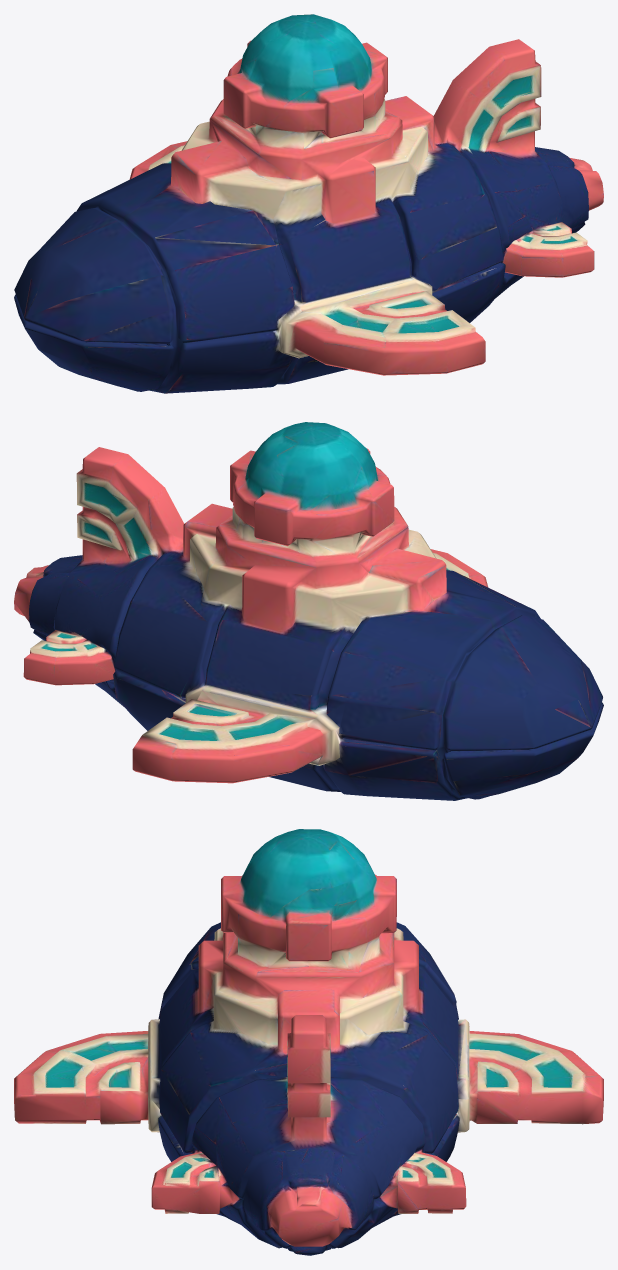
The model's file is boss-ship-512.glb.
The picture shows the model from 3 angles, top to bottom: view 1: azimuth 30°, elevation 25°; view 2: azimuth 150°, elevation 25°; view 3: azimuth 270°, elevation 25°; orthographic projection. The views are drawn at different scales.
Size of the model in its own units: 1.9 by 1.07 by 1.63.
Materials: 1 (1 with a texture image).
